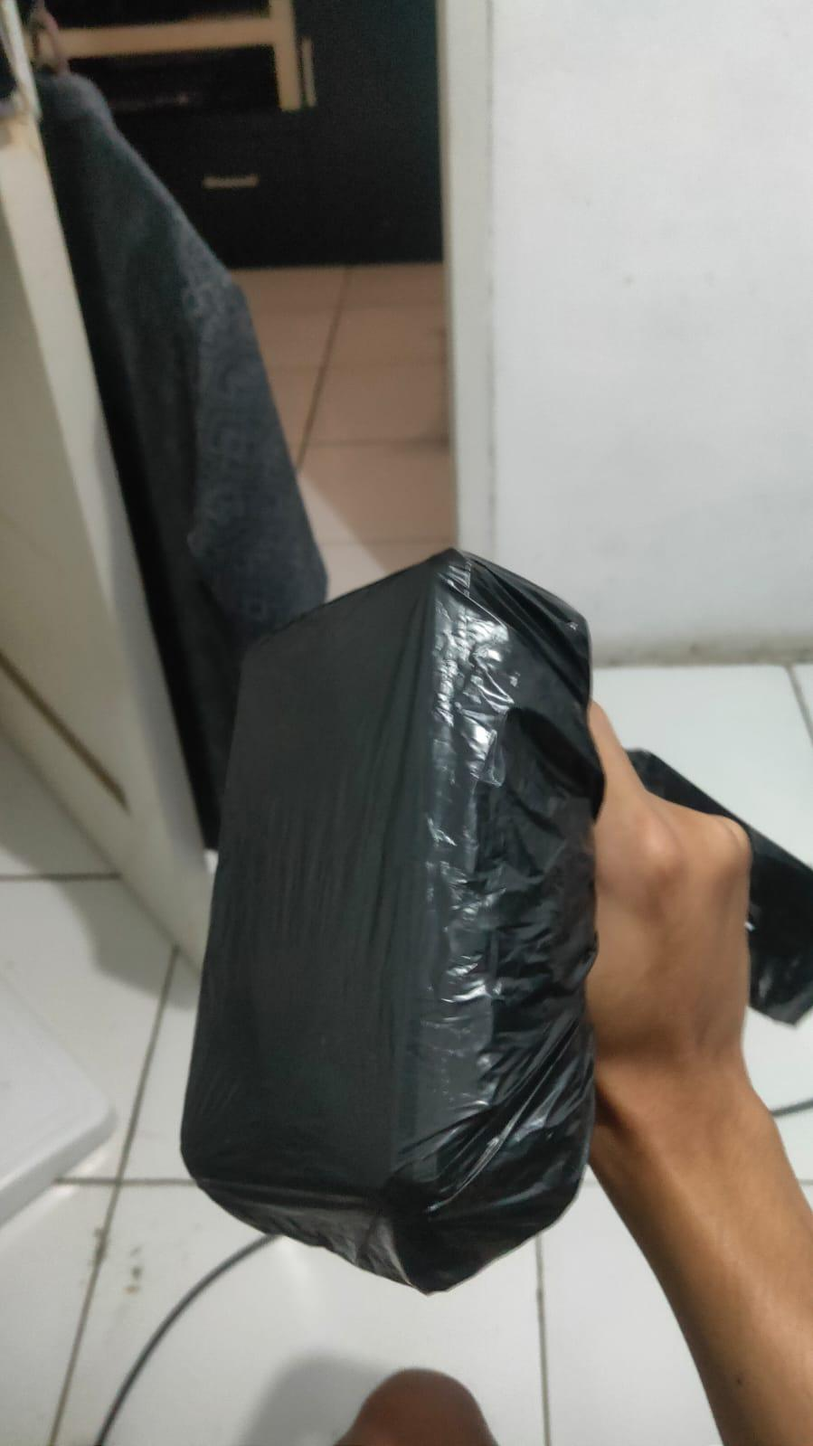undamaged: (165, 537, 602, 1309)
